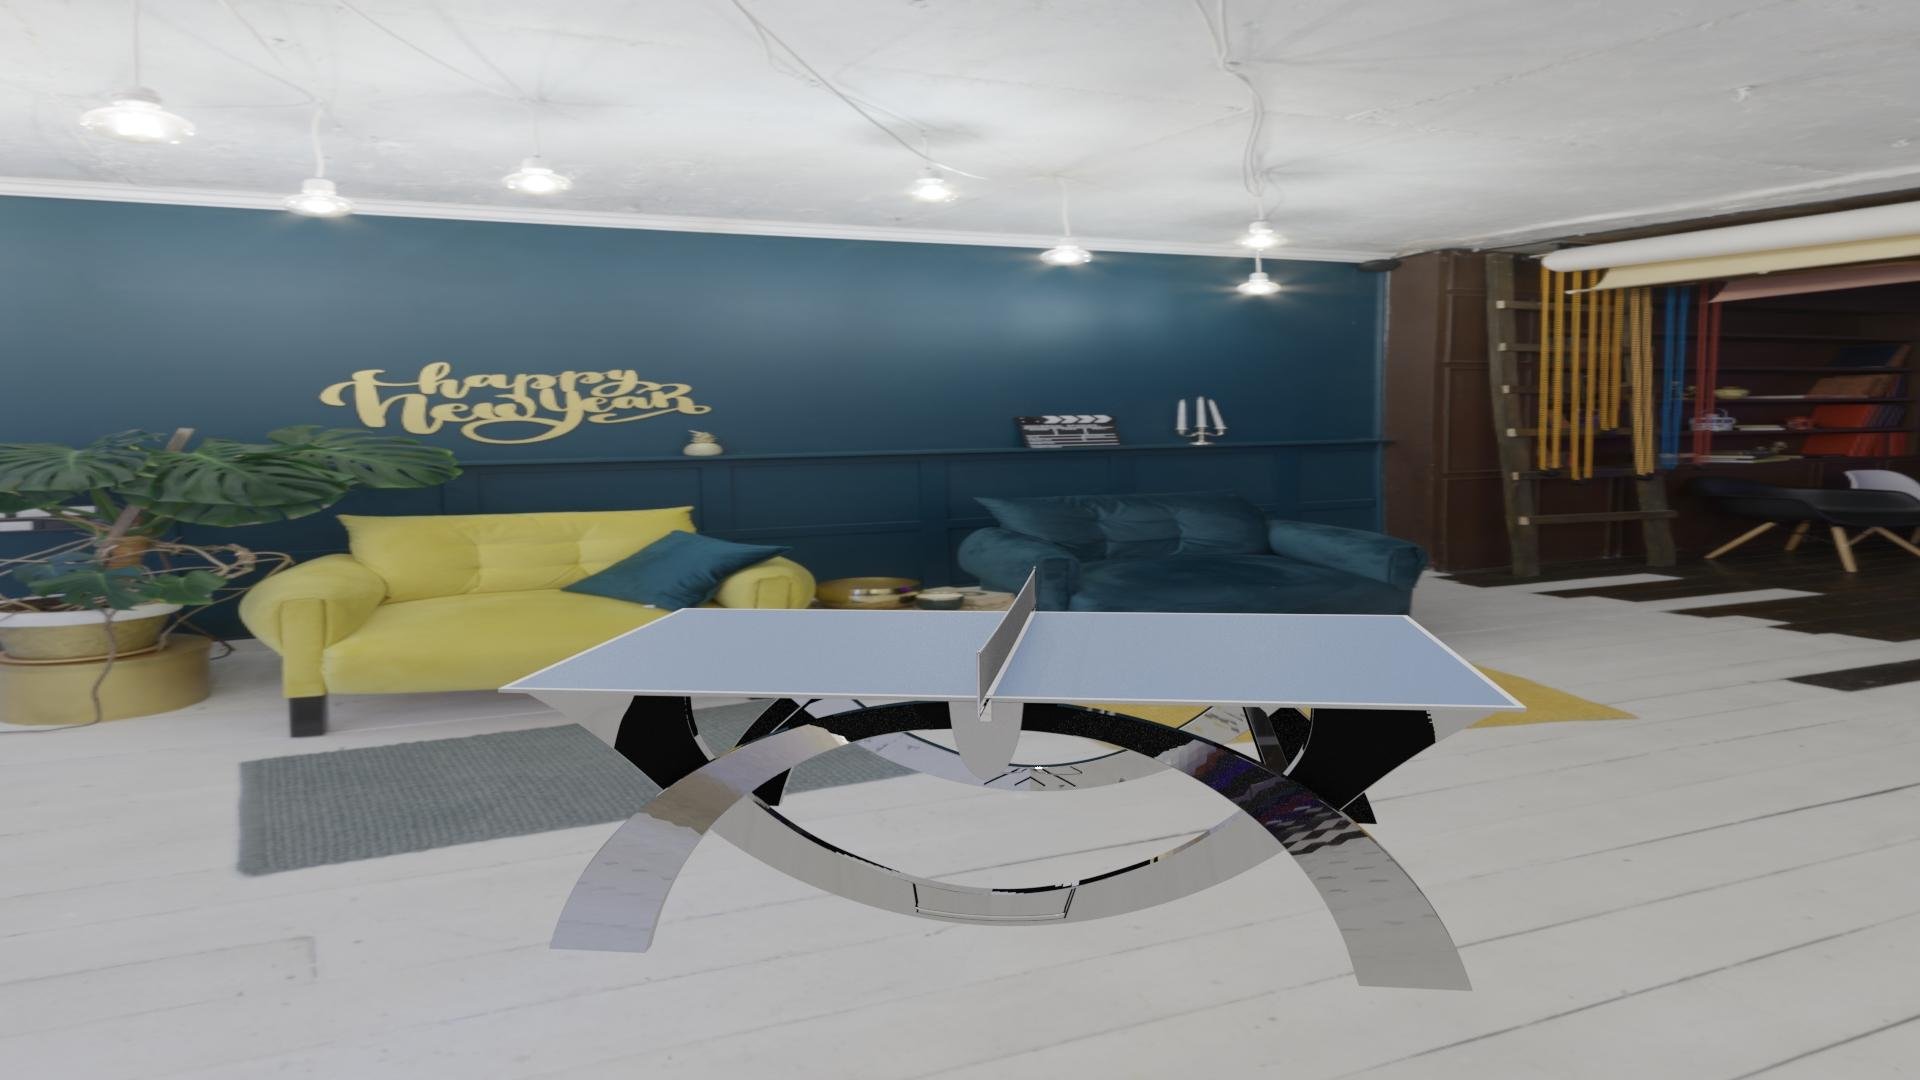table: (508, 609, 1516, 705)
